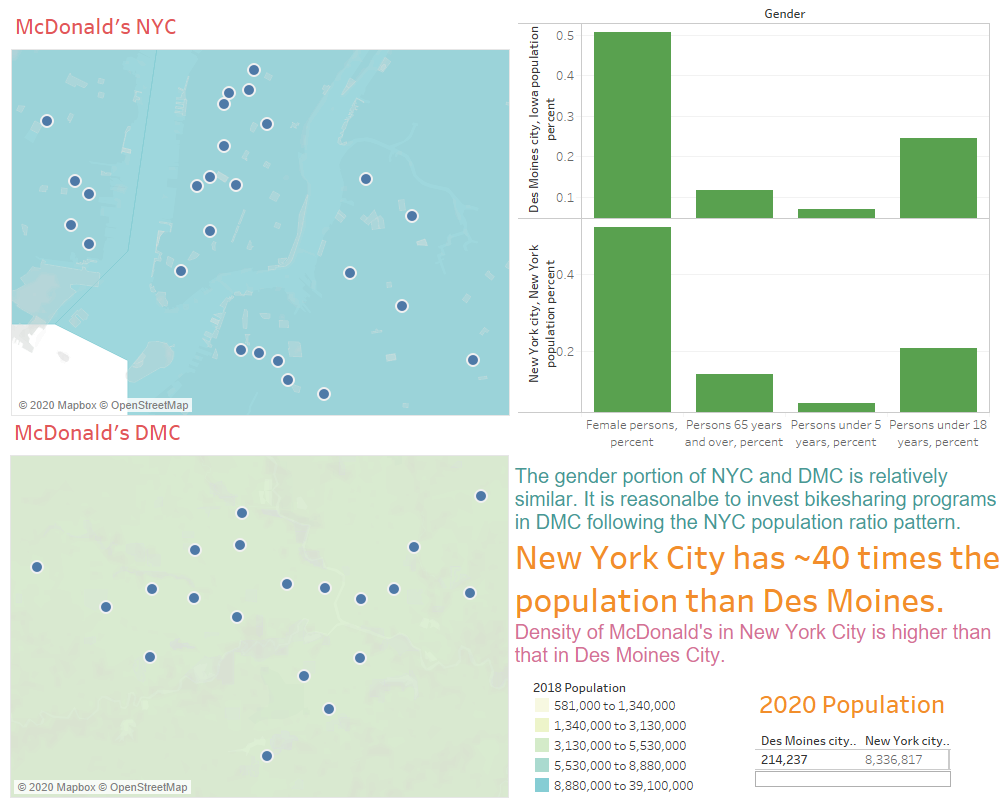

What the dashboard file says about the page in this screenshot:
{"tool":"tableau","page":{"name":"Dashboard 1","canvas":[1000,800],"ordinal":0},"visuals":[{"type":"worksheet","title":"McDonald's NYC","mark":"Automatic","rows":["latitude (ny_mcdonalds.csv)"],"cols":["longitude (ny_mcdonalds.csv)"],"box":[11,5,499,411]},{"type":"worksheet","title":"McDonald's DMC","mark":"Automatic","rows":["latitude"],"cols":["longitude"],"box":[10,411,499,387]},{"type":"worksheet","title":"McDonald's DMC","mark":"Automatic","rows":["latitude"],"cols":["longitude"],"box":[532,677,166,118]},{"type":"worksheet","title":"2020 Population","mark":"Automatic","rows":["Des Moines city, Iowa","New York city, New York"],"box":[755,681,195,108]}]}

Visuals, with their boxes in screenshot pixels (x1, y1, x2, y2), scaled from the page's 1000x800 canvas onto the 1000x800 screenshot:
"McDonald's NYC" worksheet: left=11, top=5, right=510, bottom=416
"McDonald's DMC" worksheet: left=10, top=411, right=509, bottom=798
"McDonald's DMC" worksheet: left=532, top=677, right=698, bottom=795
"2020 Population" worksheet: left=755, top=681, right=950, bottom=789
